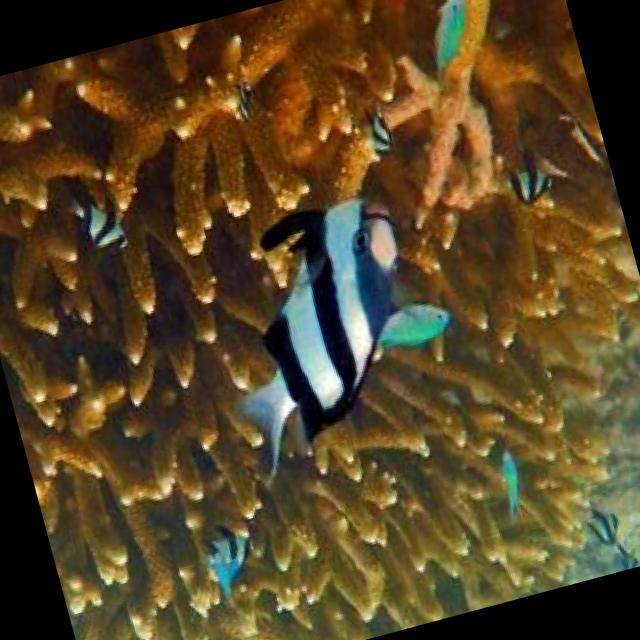ThreeStripedDamselfish: (231, 194, 397, 474)
